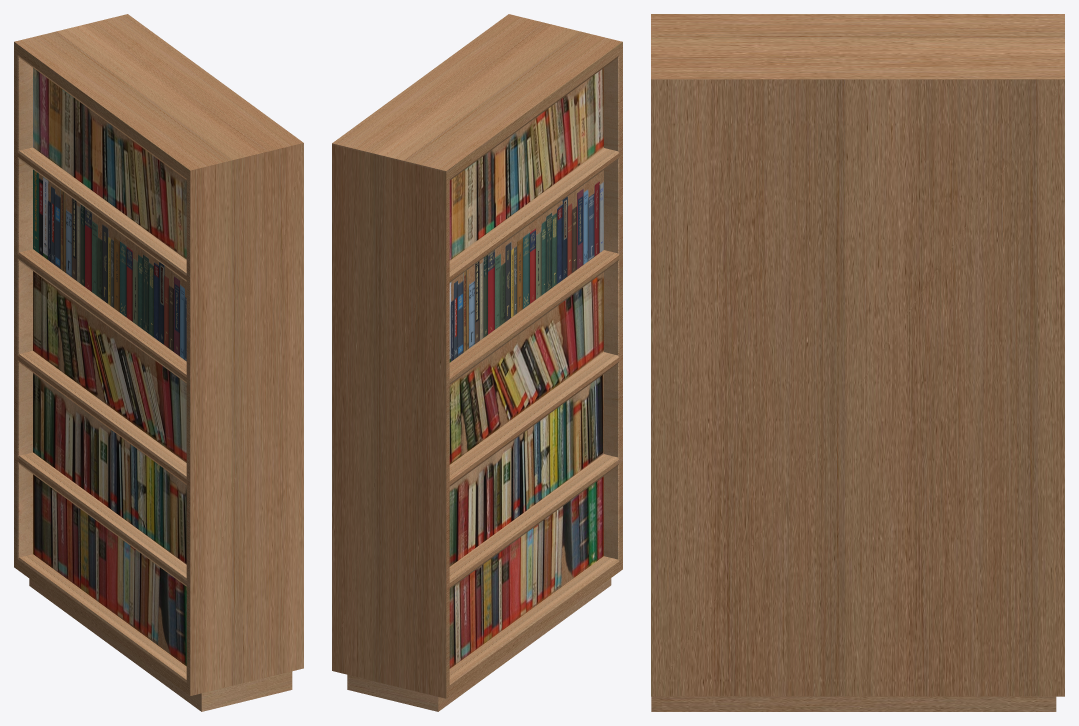
Rendered from Shelf5x1LeftBooked.fbx.
The picture shows the model from 3 angles, left to right: view 1: azimuth 30°, elevation 25°; view 2: azimuth 150°, elevation 25°; view 3: azimuth 270°, elevation 25°; orthographic projection. The views are drawn at different scales.
Visible parts, largest first — view 1: Shelf5x1Left; view 2: Shelf5x1Left; view 3: Shelf5x1Left.
Part boxes in pixels (left/top/right/bottom): Shelf5x1Left: left=14, top=14, right=303, bottom=711; Shelf5x1Left: left=332, top=14, right=622, bottom=711; Shelf5x1Left: left=651, top=14, right=1064, bottom=711.
Size of the model in its own units: 127 by 580 by 340.
